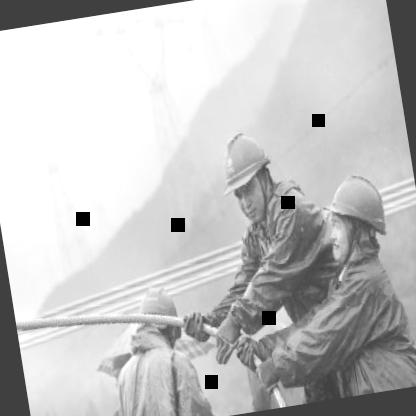helmet: (316, 164, 400, 276), (209, 120, 284, 232), (130, 281, 186, 349)
